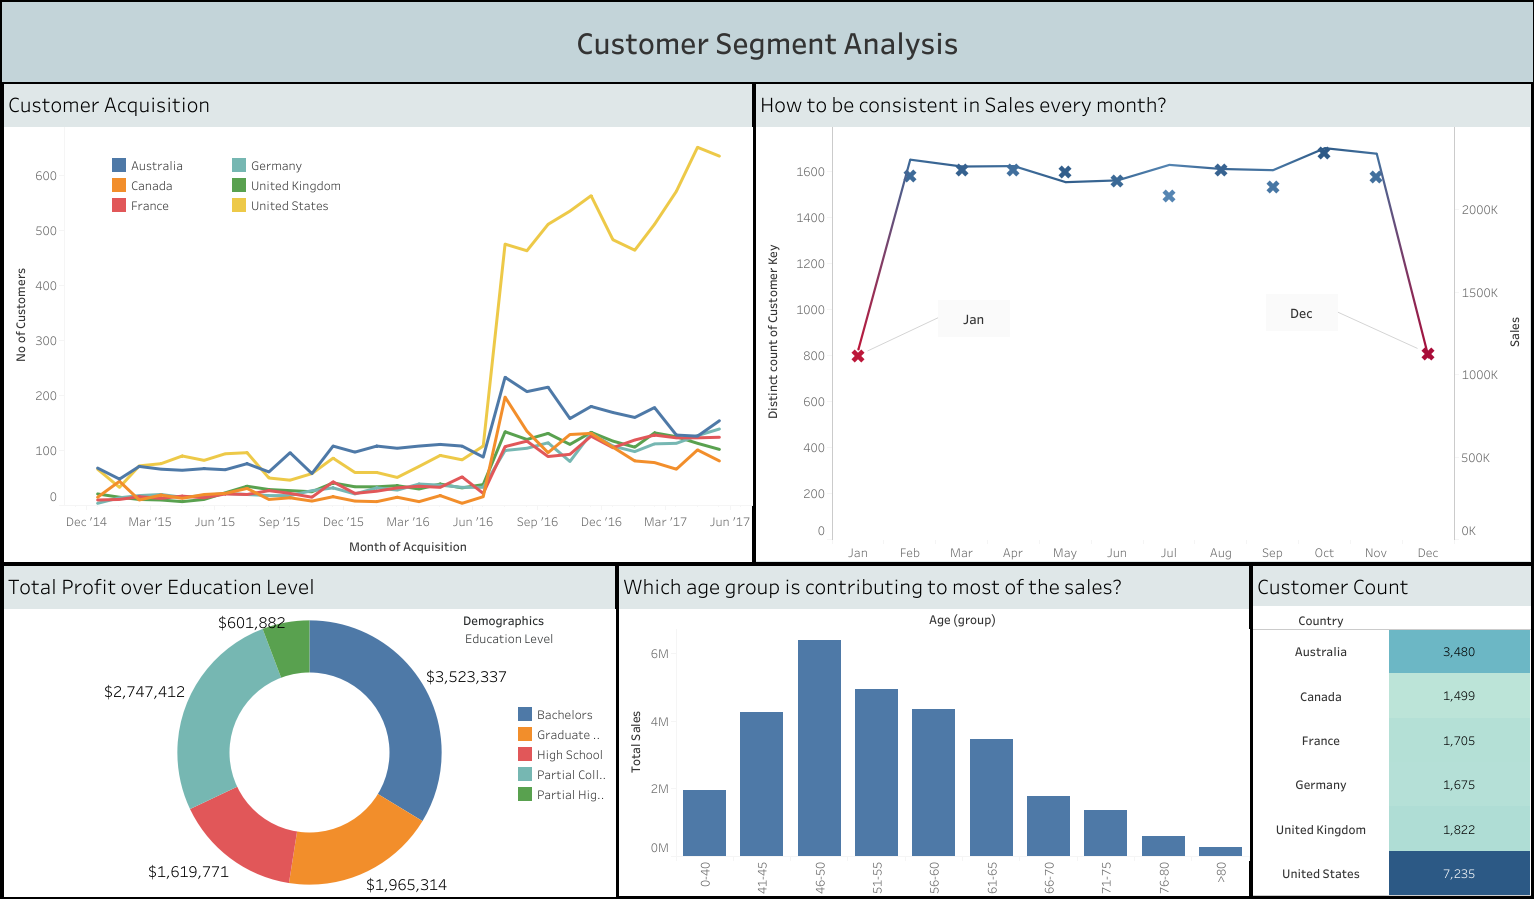

Layout of this report page (visuals, bound fields, positions):
{"tool":"tableau","page":{"name":"Customer Segment Analysis","canvas":[1000,1000],"units":"permille","ordinal":0},"visuals":[{"type":"title","box":[1.2,2,997.7,78.7]},{"type":"worksheet","title":"Customer Acquisition","mark":"Automatic","rows":["CustomerKey"],"cols":["Calculation_4477985413532295189"],"box":[1.2,80.7,489.8,542.2]},{"type":"worksheet","title":"How to be consistent in Sales every month?","mark":"Shape","rows":["CustomerKey","Calculation_4477985414567837719"],"cols":["BirthDate"],"box":[491,80.7,507.8,542.2]},{"type":"legend","title":"Customer Acquisition","param":"[federated.0p214rr1gn7r401bq3fu206zzvht].[none:Country:nk]","box":[70.8,172.6,168.5,80]},{"type":"worksheet","title":"Demographics","mark":"Pie","rows":["Calculation_4477985413523099666","Calculation_4477985413523116052"],"box":[1.2,622.9,400.5,375.2]},{"type":"worksheet","title":"Which age group is contributing to most of the sales?","mark":"Automatic","rows":["Calculation_4477985413505159182"],"box":[401.7,622.9,413.1,375.2]},{"type":"worksheet","title":"Customer Count per Country","mark":"Square","rows":["Country"],"box":[814.8,622.9,184,375.2]},{"type":"parameter","param":"[Parameters].[Parameter 1]","box":[301.8,677.8,95.2,45.7]},{"type":"legend","title":"Demographics","param":"[federated.0p214rr1gn7r401bq3fu206zzvht].[none:Calculation_4477985413520809999:n","box":[335.7,781.7,59.5,164.2]}]}

Visuals, with their boxes on the dashboard's canvas, which has no fixed pixel size, in thousandths of its width and height (x1, y1, x2, y2). These are canvas units, not pixel positions in the 1534x899 screenshot, which may show the page scaled, cropped or inside an application window:
title: select_region(1, 2, 999, 81)
"Customer Acquisition" worksheet: select_region(1, 81, 491, 623)
"How to be consistent in Sales every month?" worksheet (Shape marks): select_region(491, 81, 999, 623)
"Customer Acquisition" legend: select_region(71, 173, 239, 253)
"Demographics" worksheet (Pie marks): select_region(1, 623, 402, 998)
"Which age group is contributing to most of the sales?" worksheet: select_region(402, 623, 815, 998)
"Customer Count per Country" worksheet (Square marks): select_region(815, 623, 999, 998)
parameter: select_region(302, 678, 397, 724)
"Demographics" legend: select_region(336, 782, 395, 946)
